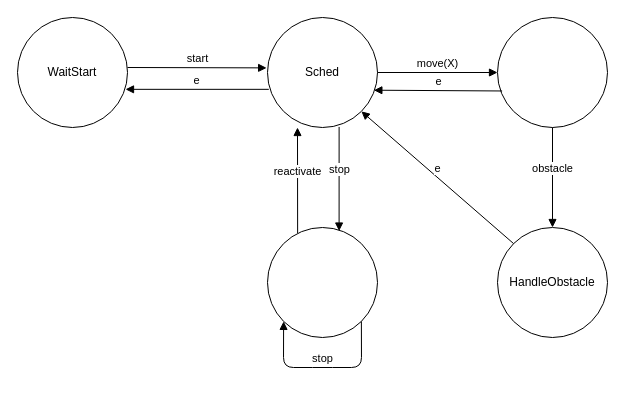
Image size: 625x393. Some labels were removed from this diagram. Each missing label, with the box of its shape:
Exec: (496, 16, 608, 128)
StopSched: (266, 226, 378, 338)
